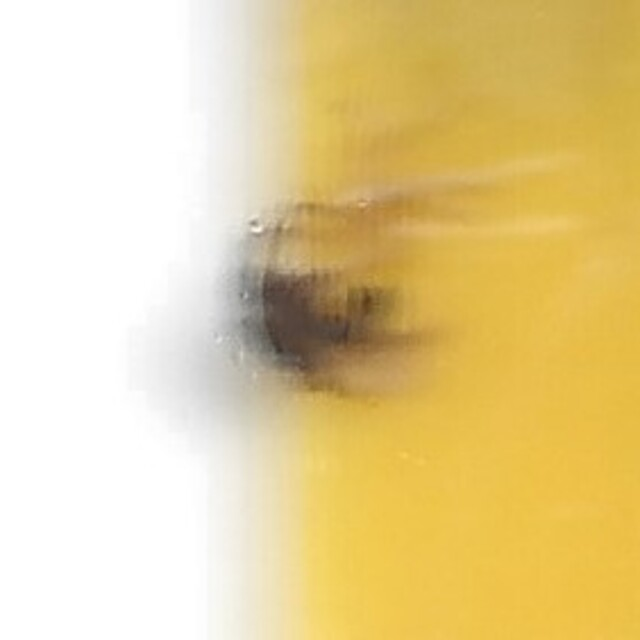Brachycera: (227, 244, 413, 396)
